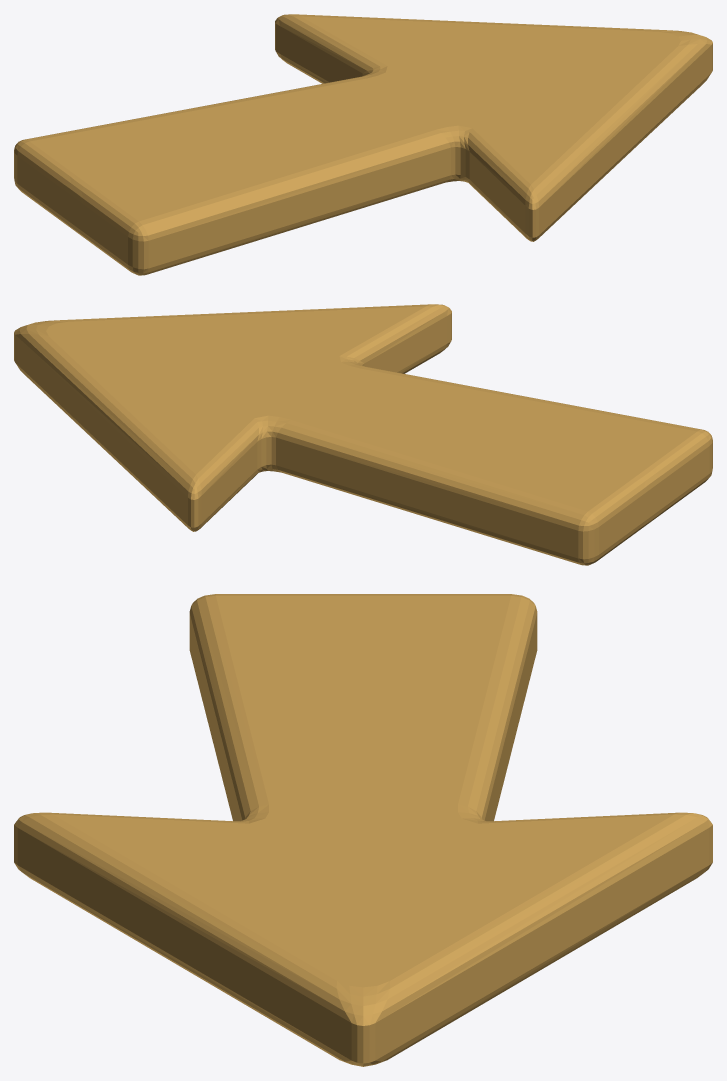
The picture shows the model from 3 angles, top to bottom: view 1: azimuth 30°, elevation 25°; view 2: azimuth 150°, elevation 25°; view 3: azimuth 270°, elevation 25°; orthographic projection. The views are drawn at different scales.
Parts seen in each view (by area): view 1: Arrow_Material.001_0; view 2: Arrow_Material.001_0; view 3: Arrow_Material.001_0.
Part boxes in pixels (<box>): Arrow_Material.001_0: <box>14,14,712,275</box>; Arrow_Material.001_0: <box>14,304,712,565</box>; Arrow_Material.001_0: <box>14,594,712,1066</box>.
Bounding box in the file's own units: 301 × 23.43 × 211.
